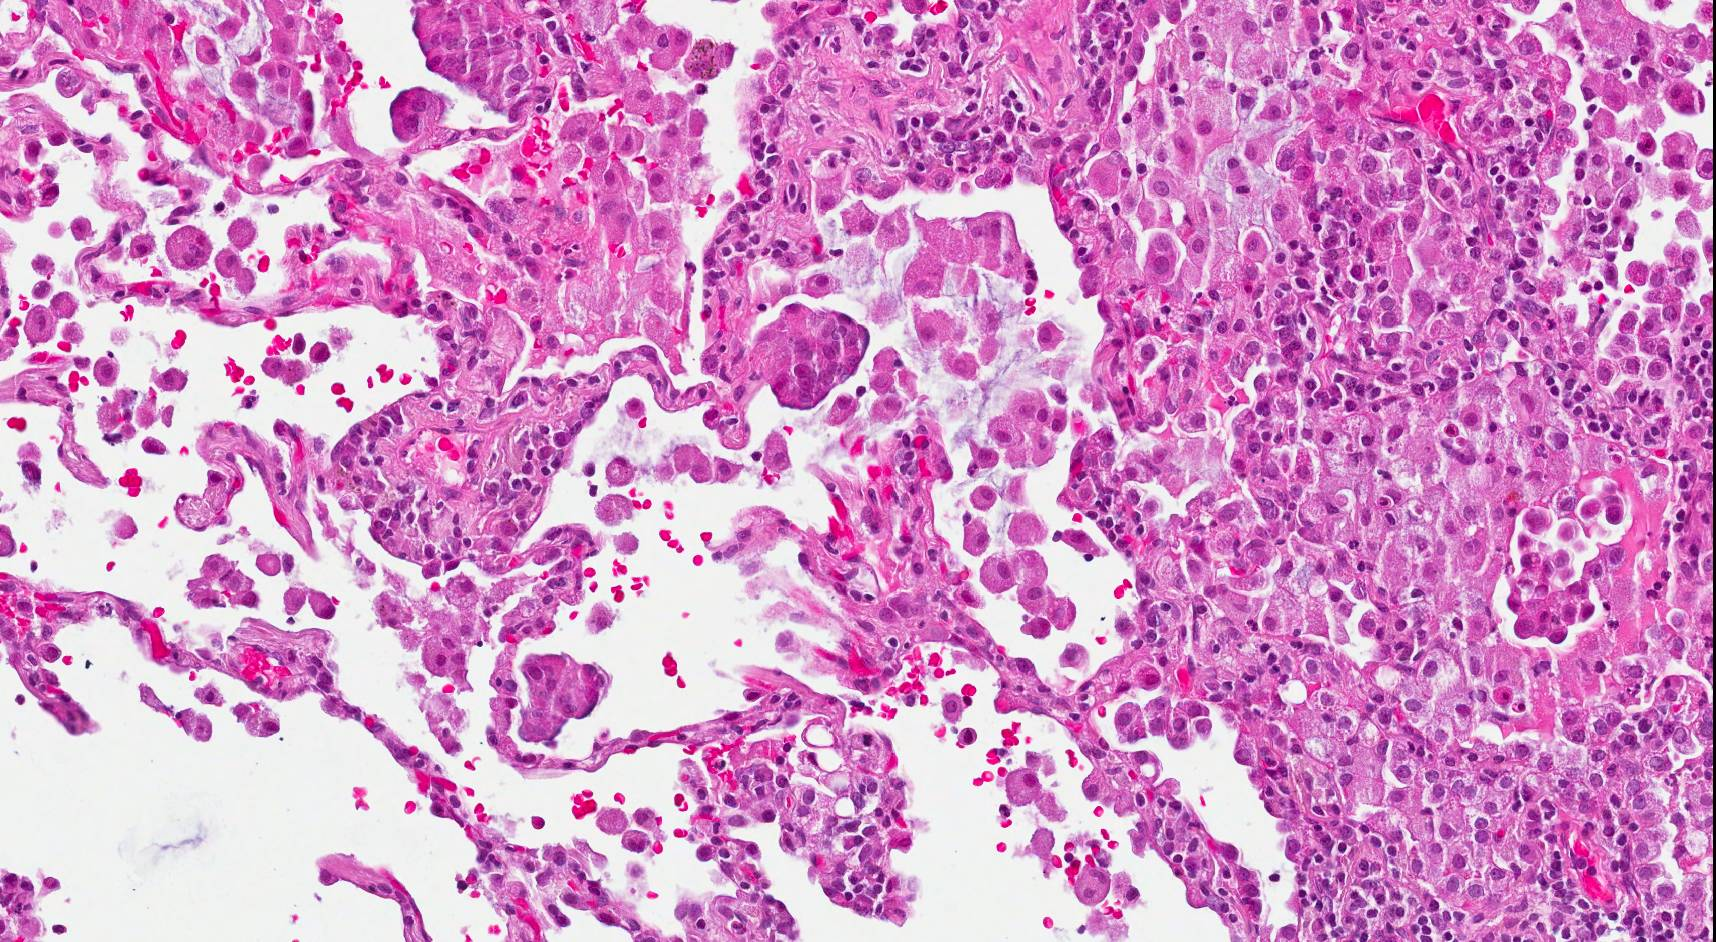stas: (512, 647, 603, 748)
